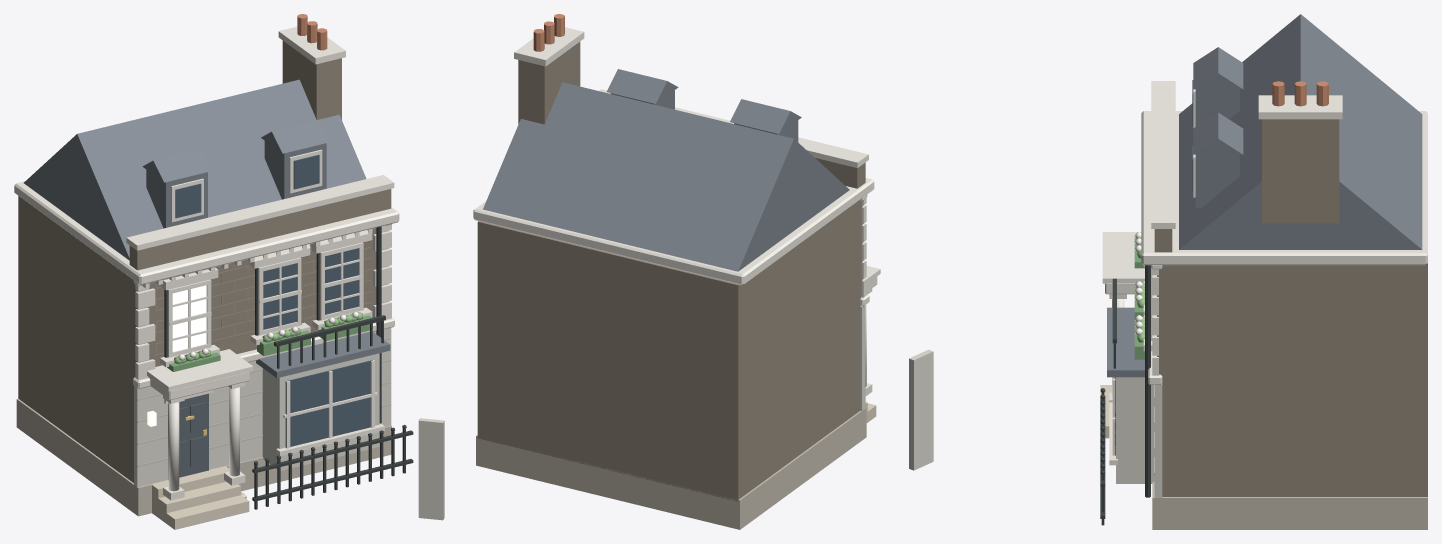
Rendered from terrace-c-2.glb.
3 views of the same model, side by side, from view 1: azimuth 30°, elevation 25°; view 2: azimuth 150°, elevation 25°; view 3: azimuth 270°, elevation 25° (orthographic). The views are drawn at different scales.
Parts seen in each view (by area): view 1: terrace-c-2; view 2: terrace-c-2; view 3: terrace-c-2.
Boxes of the visible parts, box(x1,y1,x2,y2) form: terrace-c-2: box(14, 14, 444, 529); terrace-c-2: box(473, 14, 880, 529); terrace-c-2: box(909, 14, 1427, 529).
Size of the model in its own units: 3.08 by 4.37 by 4.69.
